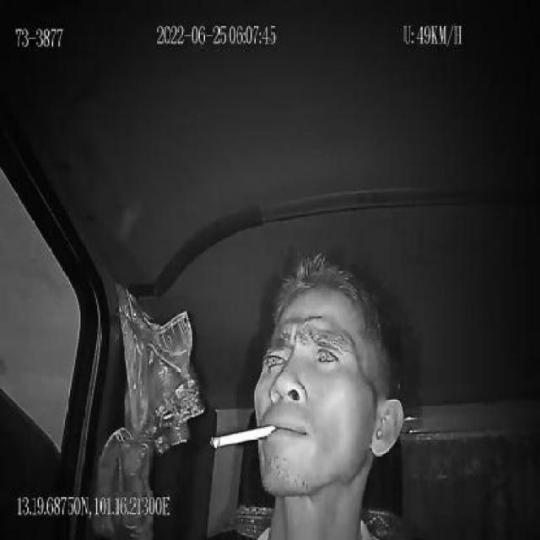smoking: (210, 418, 278, 452)
